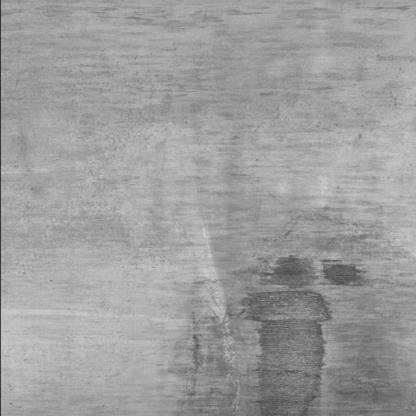rolled_pit: (224, 287, 340, 414)
